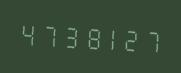eight: (80, 19, 100, 53)
four: (17, 16, 37, 50)
one: (101, 20, 121, 54)
seven: (38, 17, 58, 51), (143, 22, 163, 56)
three: (59, 18, 79, 52)
two: (122, 21, 142, 55)
